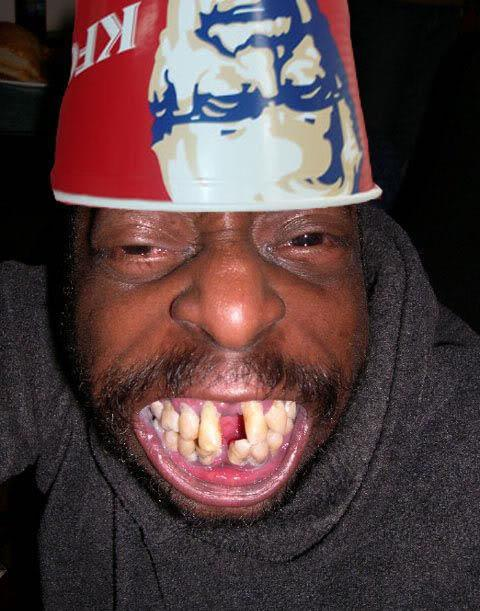KFC: (77, 1, 389, 223)
